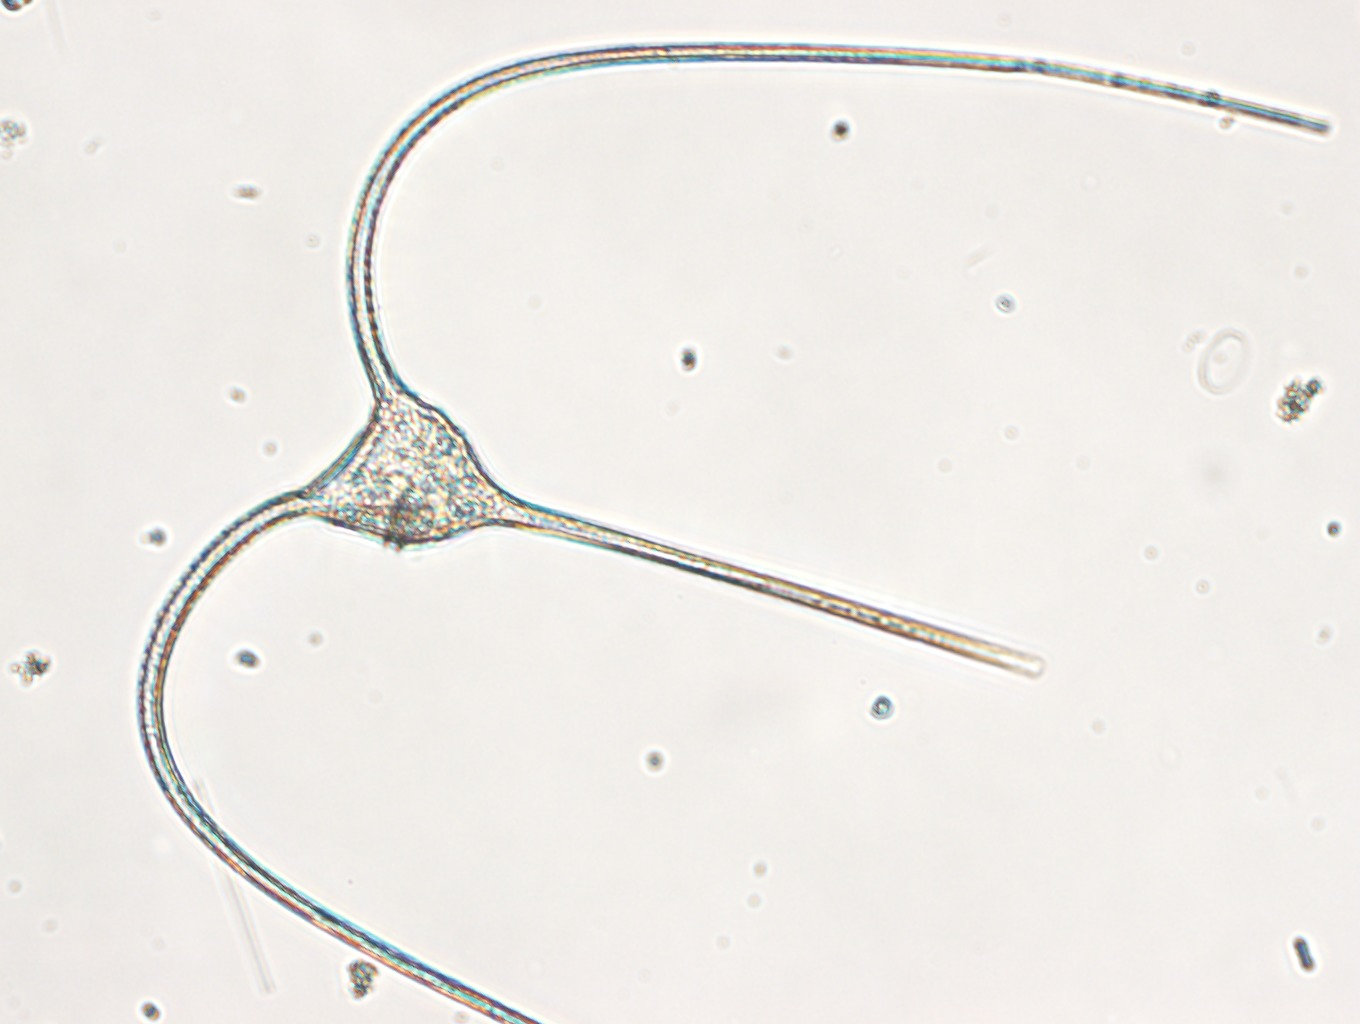ceratium trichoceros: (115, 38, 1343, 1015)
